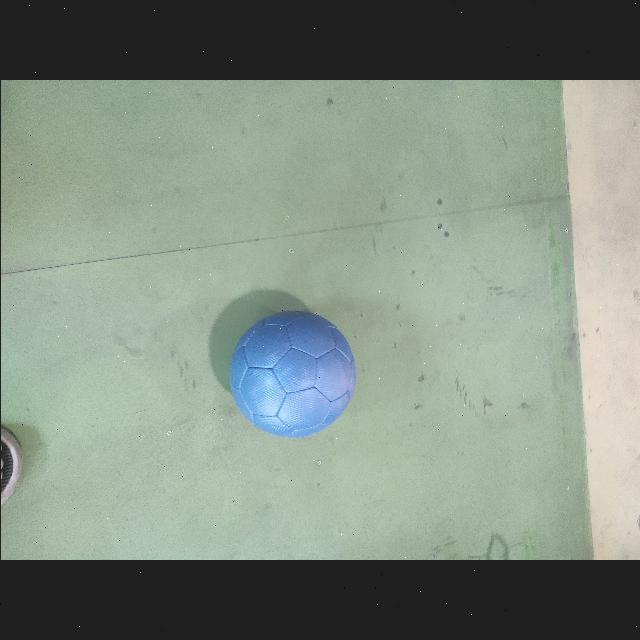B: (226, 310, 354, 438)
